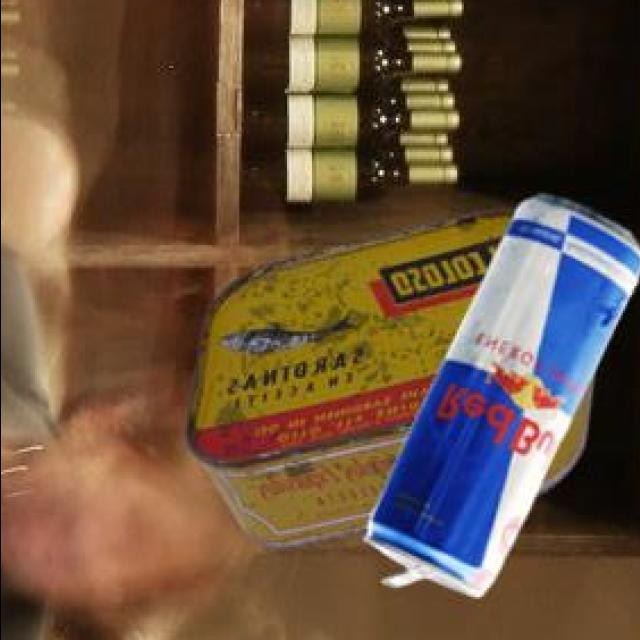logam: (187, 214, 596, 550), (367, 199, 640, 600)
